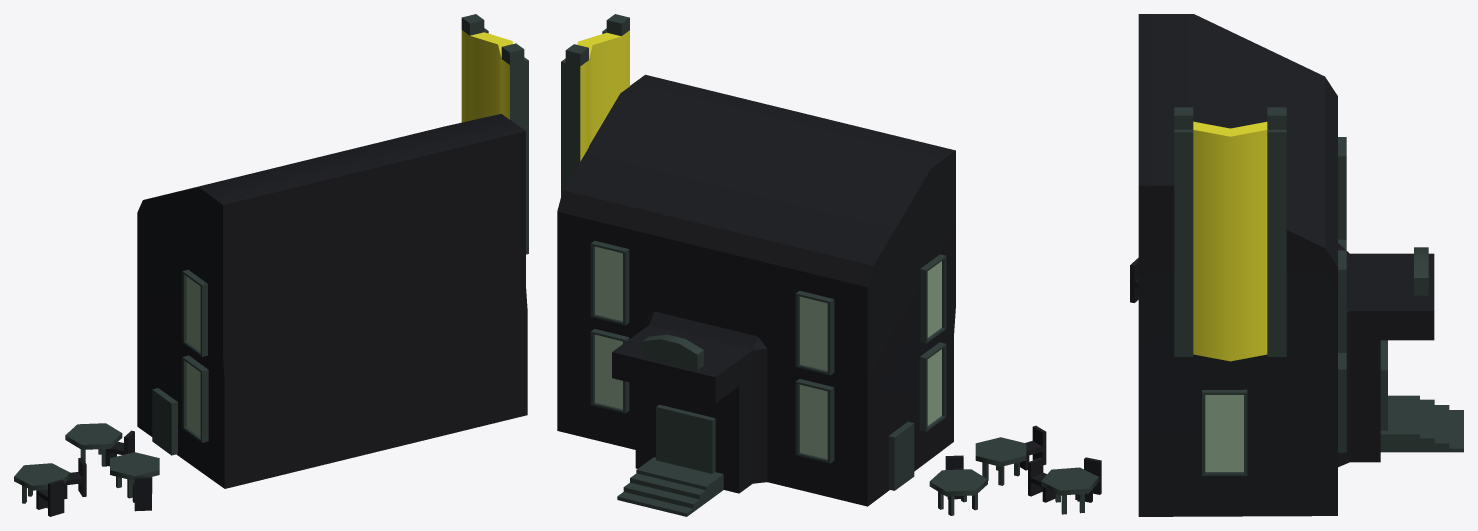
The model's file is Pub.FBX.
3 views of the same model, side by side, from view 1: azimuth 30°, elevation 25°; view 2: azimuth 150°, elevation 25°; view 3: azimuth 270°, elevation 25° (orthographic). The views are drawn at different scales.
Visible parts, largest first — view 1: Box037, Box048, Box038, Box049, Cylinder002, Cylinder001, Cylinder003, Box051, Box053; view 2: Box037, Box038, Box040, Box048, Cylinder002, Box047, Box049, Cylinder001, Cylinder003, Box050, Box053; view 3: Box037, Box048, Box038, Box040, Box047.
Part boxes in pixels (x1=…): Box037: x1=137, y1=114, x2=527, y2=488; Box048: x1=461, y1=14, x2=528, y2=254; Box038: x1=182, y1=269, x2=208, y2=442; Box049: x1=152, y1=388, x2=177, y2=455; Cylinder002: x1=65, y1=423, x2=122, y2=466; Cylinder001: x1=110, y1=452, x2=159, y2=498; Cylinder003: x1=14, y1=463, x2=70, y2=508; Box051: x1=36, y1=479, x2=64, y2=516; Box053: x1=132, y1=476, x2=151, y2=511; Box037: x1=557, y1=74, x2=955, y2=506; Box038: x1=590, y1=240, x2=946, y2=463; Box040: x1=617, y1=404, x2=723, y2=516; Box048: x1=561, y1=14, x2=629, y2=196; Cylinder002: x1=929, y1=469, x2=987, y2=515; Box047: x1=642, y1=334, x2=703, y2=370; Box049: x1=888, y1=421, x2=914, y2=490; Cylinder001: x1=975, y1=437, x2=1026, y2=485; Cylinder003: x1=1041, y1=467, x2=1098, y2=514; Box050: x1=1028, y1=457, x2=1055, y2=502; Box053: x1=1020, y1=425, x2=1046, y2=470; Box037: x1=1138, y1=14, x2=1434, y2=516; Box048: x1=1174, y1=107, x2=1286, y2=361; Box038: x1=1202, y1=137, x2=1346, y2=475; Box040: x1=1380, y1=340, x2=1463, y2=452; Box047: x1=1414, y1=247, x2=1428, y2=295.
Size of the model in its own units: 10.58 by 7.16 by 5.28.
